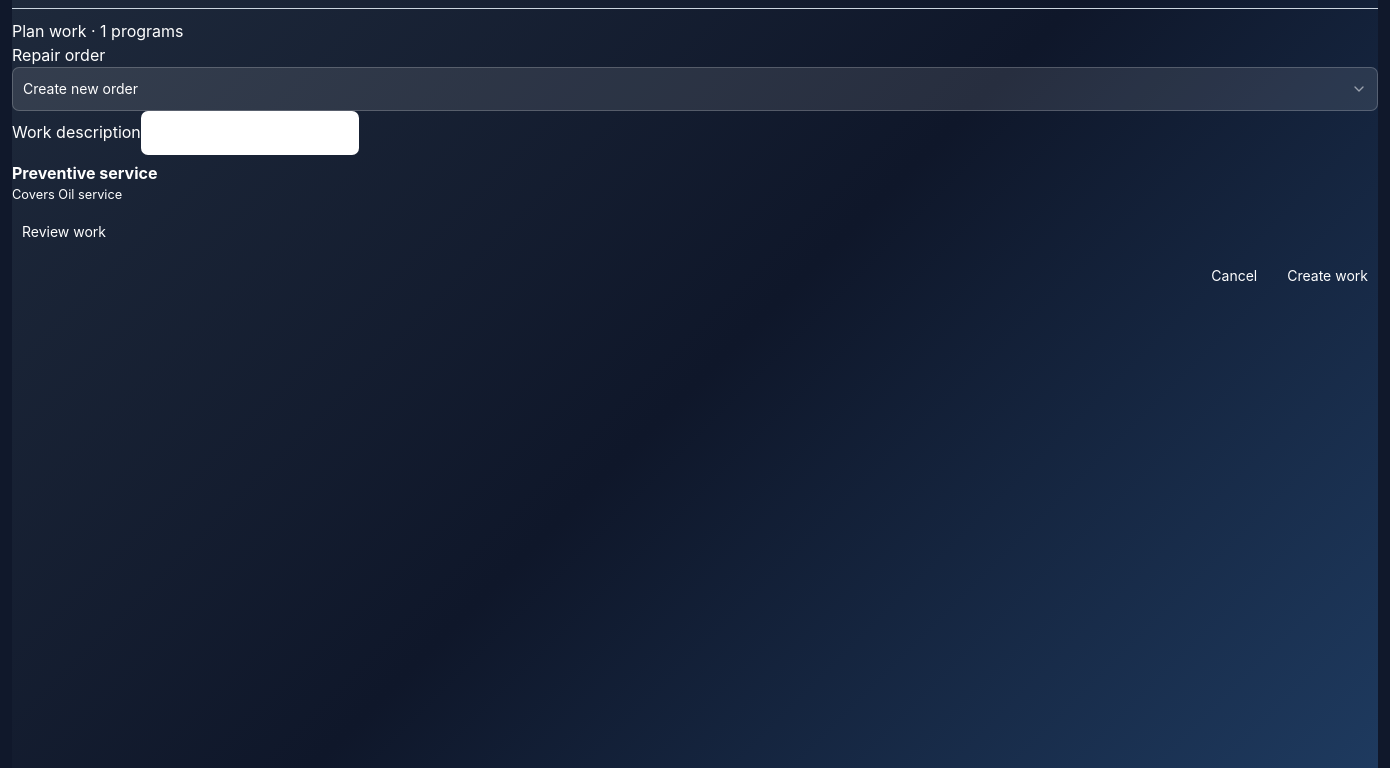
Test: aggregate maintenance work › does not expose shop agreement rates in the fleet confirmation
This screenshot has width=1390, height=768.
Click the button "Review work" at (64, 232), box top-left (12, 210), bottom-right (116, 254)
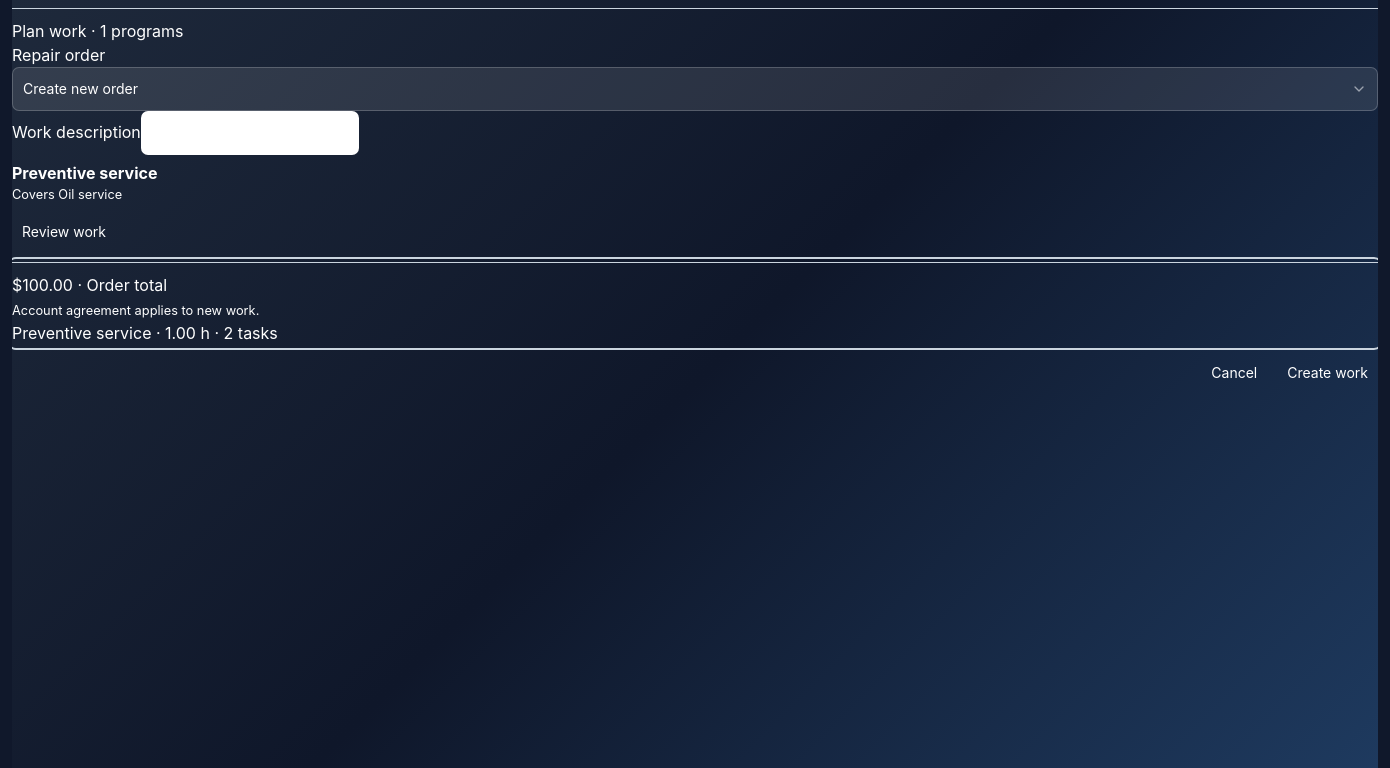
Expected: the text "Account agreement applies to new work." is shown, top-left (12, 303), bottom-right (259, 318)
Expected: the heading "$100.00 · Order total" is shown, top-left (12, 275), bottom-right (167, 295)
